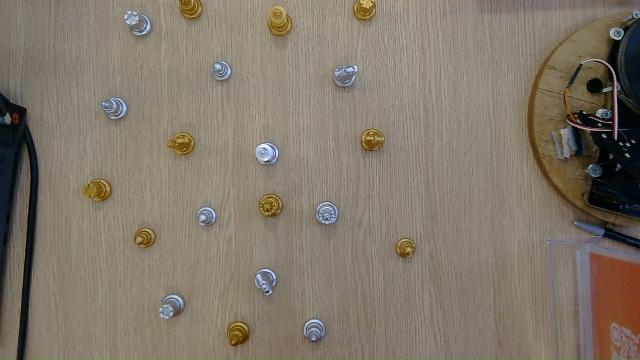black_bishop: (228, 319, 250, 347), (396, 236, 417, 260)
black_king: (264, 3, 295, 38)
black_knight: (358, 126, 389, 156), (165, 131, 197, 158)
black_pawn: (132, 226, 157, 249)
black_queen: (257, 192, 285, 220)
black_rook: (80, 176, 113, 204), (353, 0, 378, 21)
white_bishop: (98, 92, 129, 125), (303, 317, 327, 347)
white_king: (251, 140, 281, 167)
white_knight: (251, 267, 282, 297), (330, 63, 361, 89)
white_pawn: (209, 59, 233, 82), (195, 205, 219, 227)
white_queen: (313, 195, 341, 228)
white_rook: (156, 291, 187, 323), (123, 9, 153, 37)
